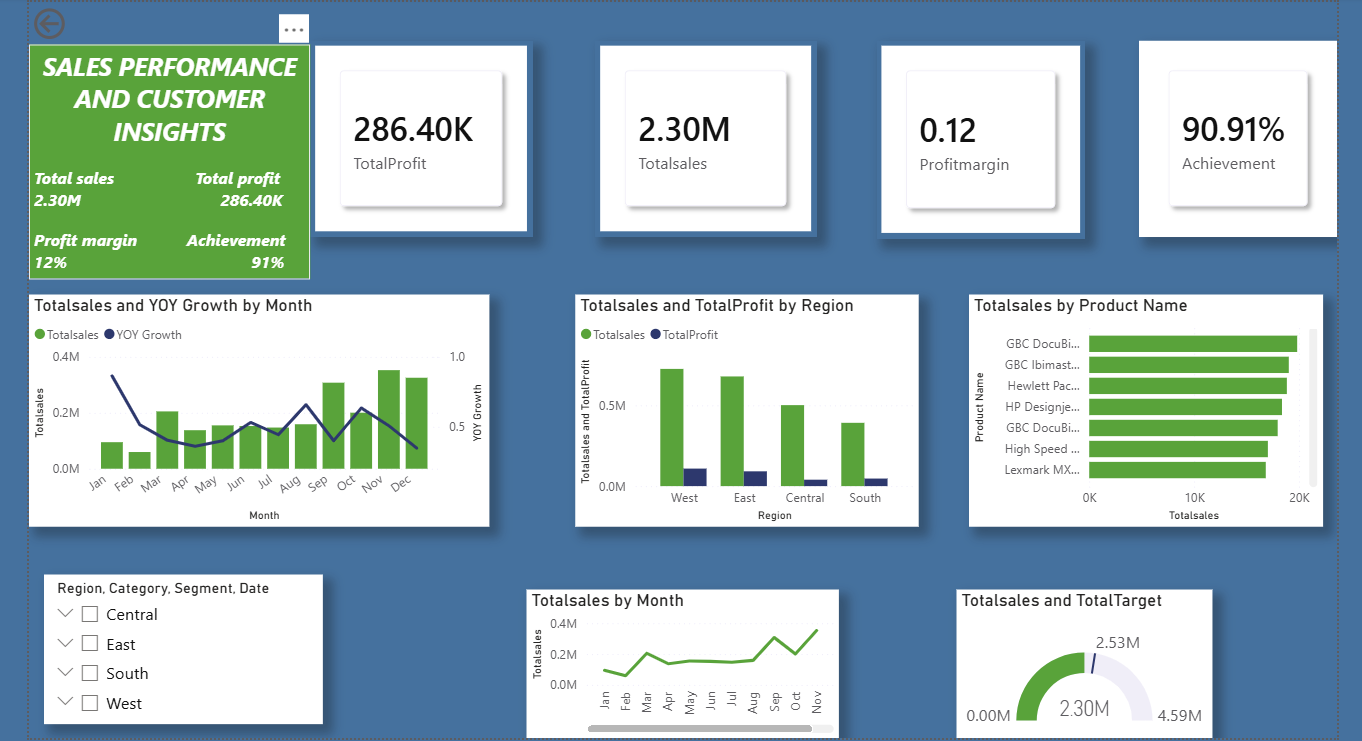

The page's visual inventory and layout, read from the dashboard file:
{"tool":"powerbi","page":{"name":"DashBoard","canvas":[1280,720],"ordinal":0},"visuals":[{"type":"cardVisual","fields":{"Data":["Sales.TotalProfit"]},"box":[275.1,37.9,217.7,192],"z":0},{"type":"cardVisual","fields":{"Data":["Sales.Totalsales"]},"box":[553.9,37.9,216.4,192],"z":1000},{"type":"cardVisual","fields":{"Data":["Sales.Profitmargin"]},"box":[829.1,37.9,204.2,193.2],"z":2000},{"type":"cardVisual","fields":{"Data":["Sales.Achievement"]},"box":[1085.9,37.9,194.4,192],"z":3000},{"type":"gauge","fields":{"TargetValue":["Sales.TotalTarget"],"Y":["Sales.Totalsales"]},"box":[907.3,574.7,250.7,145.5],"z":4000},{"type":"clusteredColumnChart","fields":{"Category":["Sales.Region"],"Y":["Sales.Totalsales","Sales.TotalProfit"]},"box":[534.4,286.1,336.3,227.4],"z":5000},{"type":"barChart","fields":{"Y":["Sales.Totalsales"],"Category":["Sales.Product Name"]},"box":[919.6,286.1,346.1,227.4],"z":6000},{"type":"slicer","fields":{"Values":["Sales.Region","Sales.Category","Sales.Segment","DateTable.Date"]},"box":[14.7,560.1,272.7,146.7],"z":7000},{"type":"actionButton","box":[0,1.4,99.3,40],"z":8000},{"type":"lineChart","fields":{"Y":["Sales.Totalsales"],"Category":["DateTable.Month"]},"box":[486.7,574.7,305.7,145.5],"z":9000},{"type":"lineClusteredColumnComboChart","fields":{"Category":["DateTable.Month"],"Y":["Sales.Totalsales"],"Y2":["Sales.YOY Growth"]},"box":[0,286.1,450,227.4],"z":10000},{"type":"textbox","box":[0,42.1,275.1,228.8],"z":11000}]}

Visuals, with their boxes in screenshot pixels (x1, y1, x2, y2):
cardVisual - Sales.TotalProfit: x1=311, y1=38, x2=532, y2=233
cardVisual - Sales.Totalsales: x1=594, y1=38, x2=814, y2=233
cardVisual - Sales.Profitmargin: x1=874, y1=38, x2=1081, y2=235
cardVisual - Sales.Achievement: x1=1134, y1=38, x2=1332, y2=233
gauge - Sales.TotalTarget x Sales.Totalsales: x1=953, y1=584, x2=1208, y2=731
clusteredColumnChart - Sales.Region x Sales.Totalsales: x1=575, y1=290, x2=916, y2=521
barChart - Sales.Totalsales x Sales.Product Name: x1=966, y1=290, x2=1317, y2=521
slicer - Sales.Region x Sales.Category: x1=47, y1=569, x2=324, y2=718
actionButton: x1=32, y1=1, x2=133, y2=42
lineChart - Sales.Totalsales x DateTable.Month: x1=526, y1=584, x2=836, y2=731
lineClusteredColumnComboChart - DateTable.Month x Sales.Totalsales: x1=32, y1=290, x2=489, y2=521
textbox: x1=32, y1=43, x2=311, y2=275
